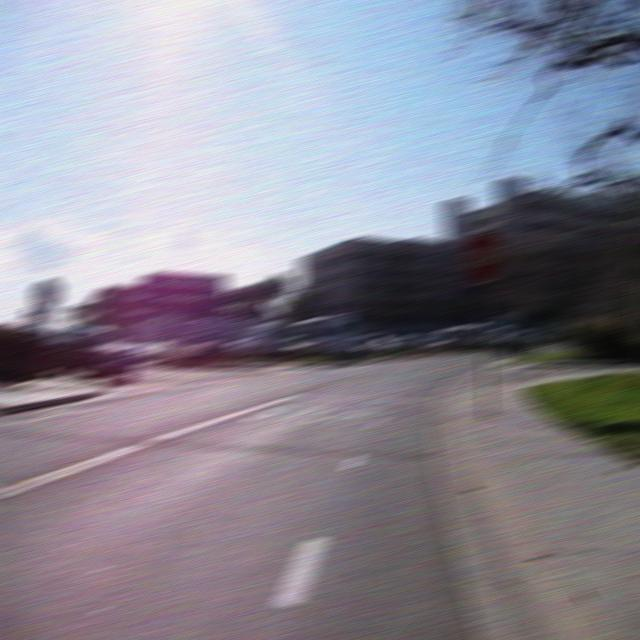stop: (460, 229, 508, 283)
